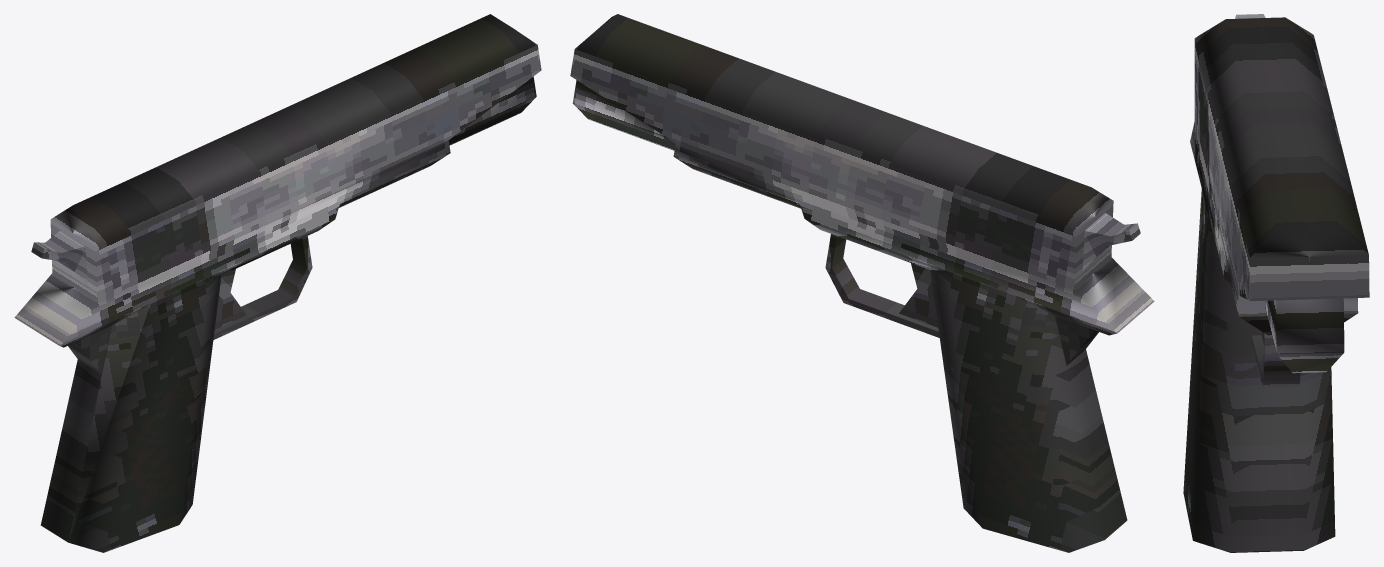
Rendered from Colt45.fbx.
The picture shows the model from 3 angles, left to right: view 1: azimuth 30°, elevation 25°; view 2: azimuth 150°, elevation 25°; view 3: azimuth 270°, elevation 25°; orthographic projection. The views are drawn at different scales.
Parts seen in each view (by area): view 1: colt45; view 2: colt45; view 3: colt45.
Boxes of the visible parts, x1,y1,x2,y2 form: colt45: (14, 14, 541, 552); colt45: (570, 14, 1154, 552); colt45: (1183, 14, 1369, 552).
Size of the model in its own units: 24.81 by 18.26 by 5.26.
1 material, 1 textured.
